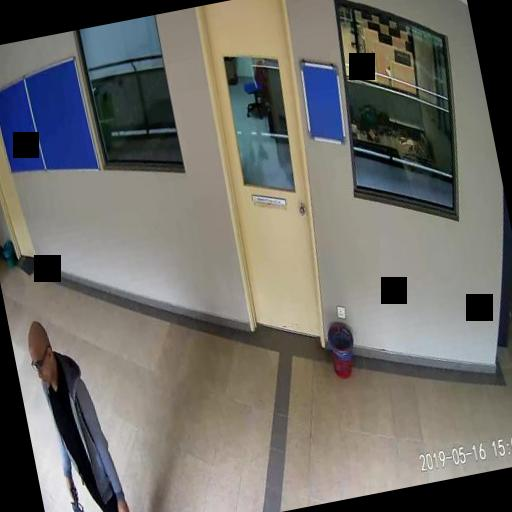Handgun: (66, 484, 92, 512)
